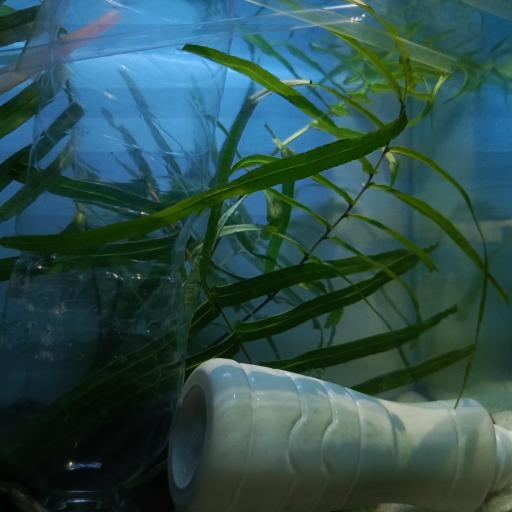plastic_bottle: (0, 0, 232, 512), (165, 354, 512, 512)
plastic_straw: (0, 0, 381, 79), (253, 0, 464, 74)
